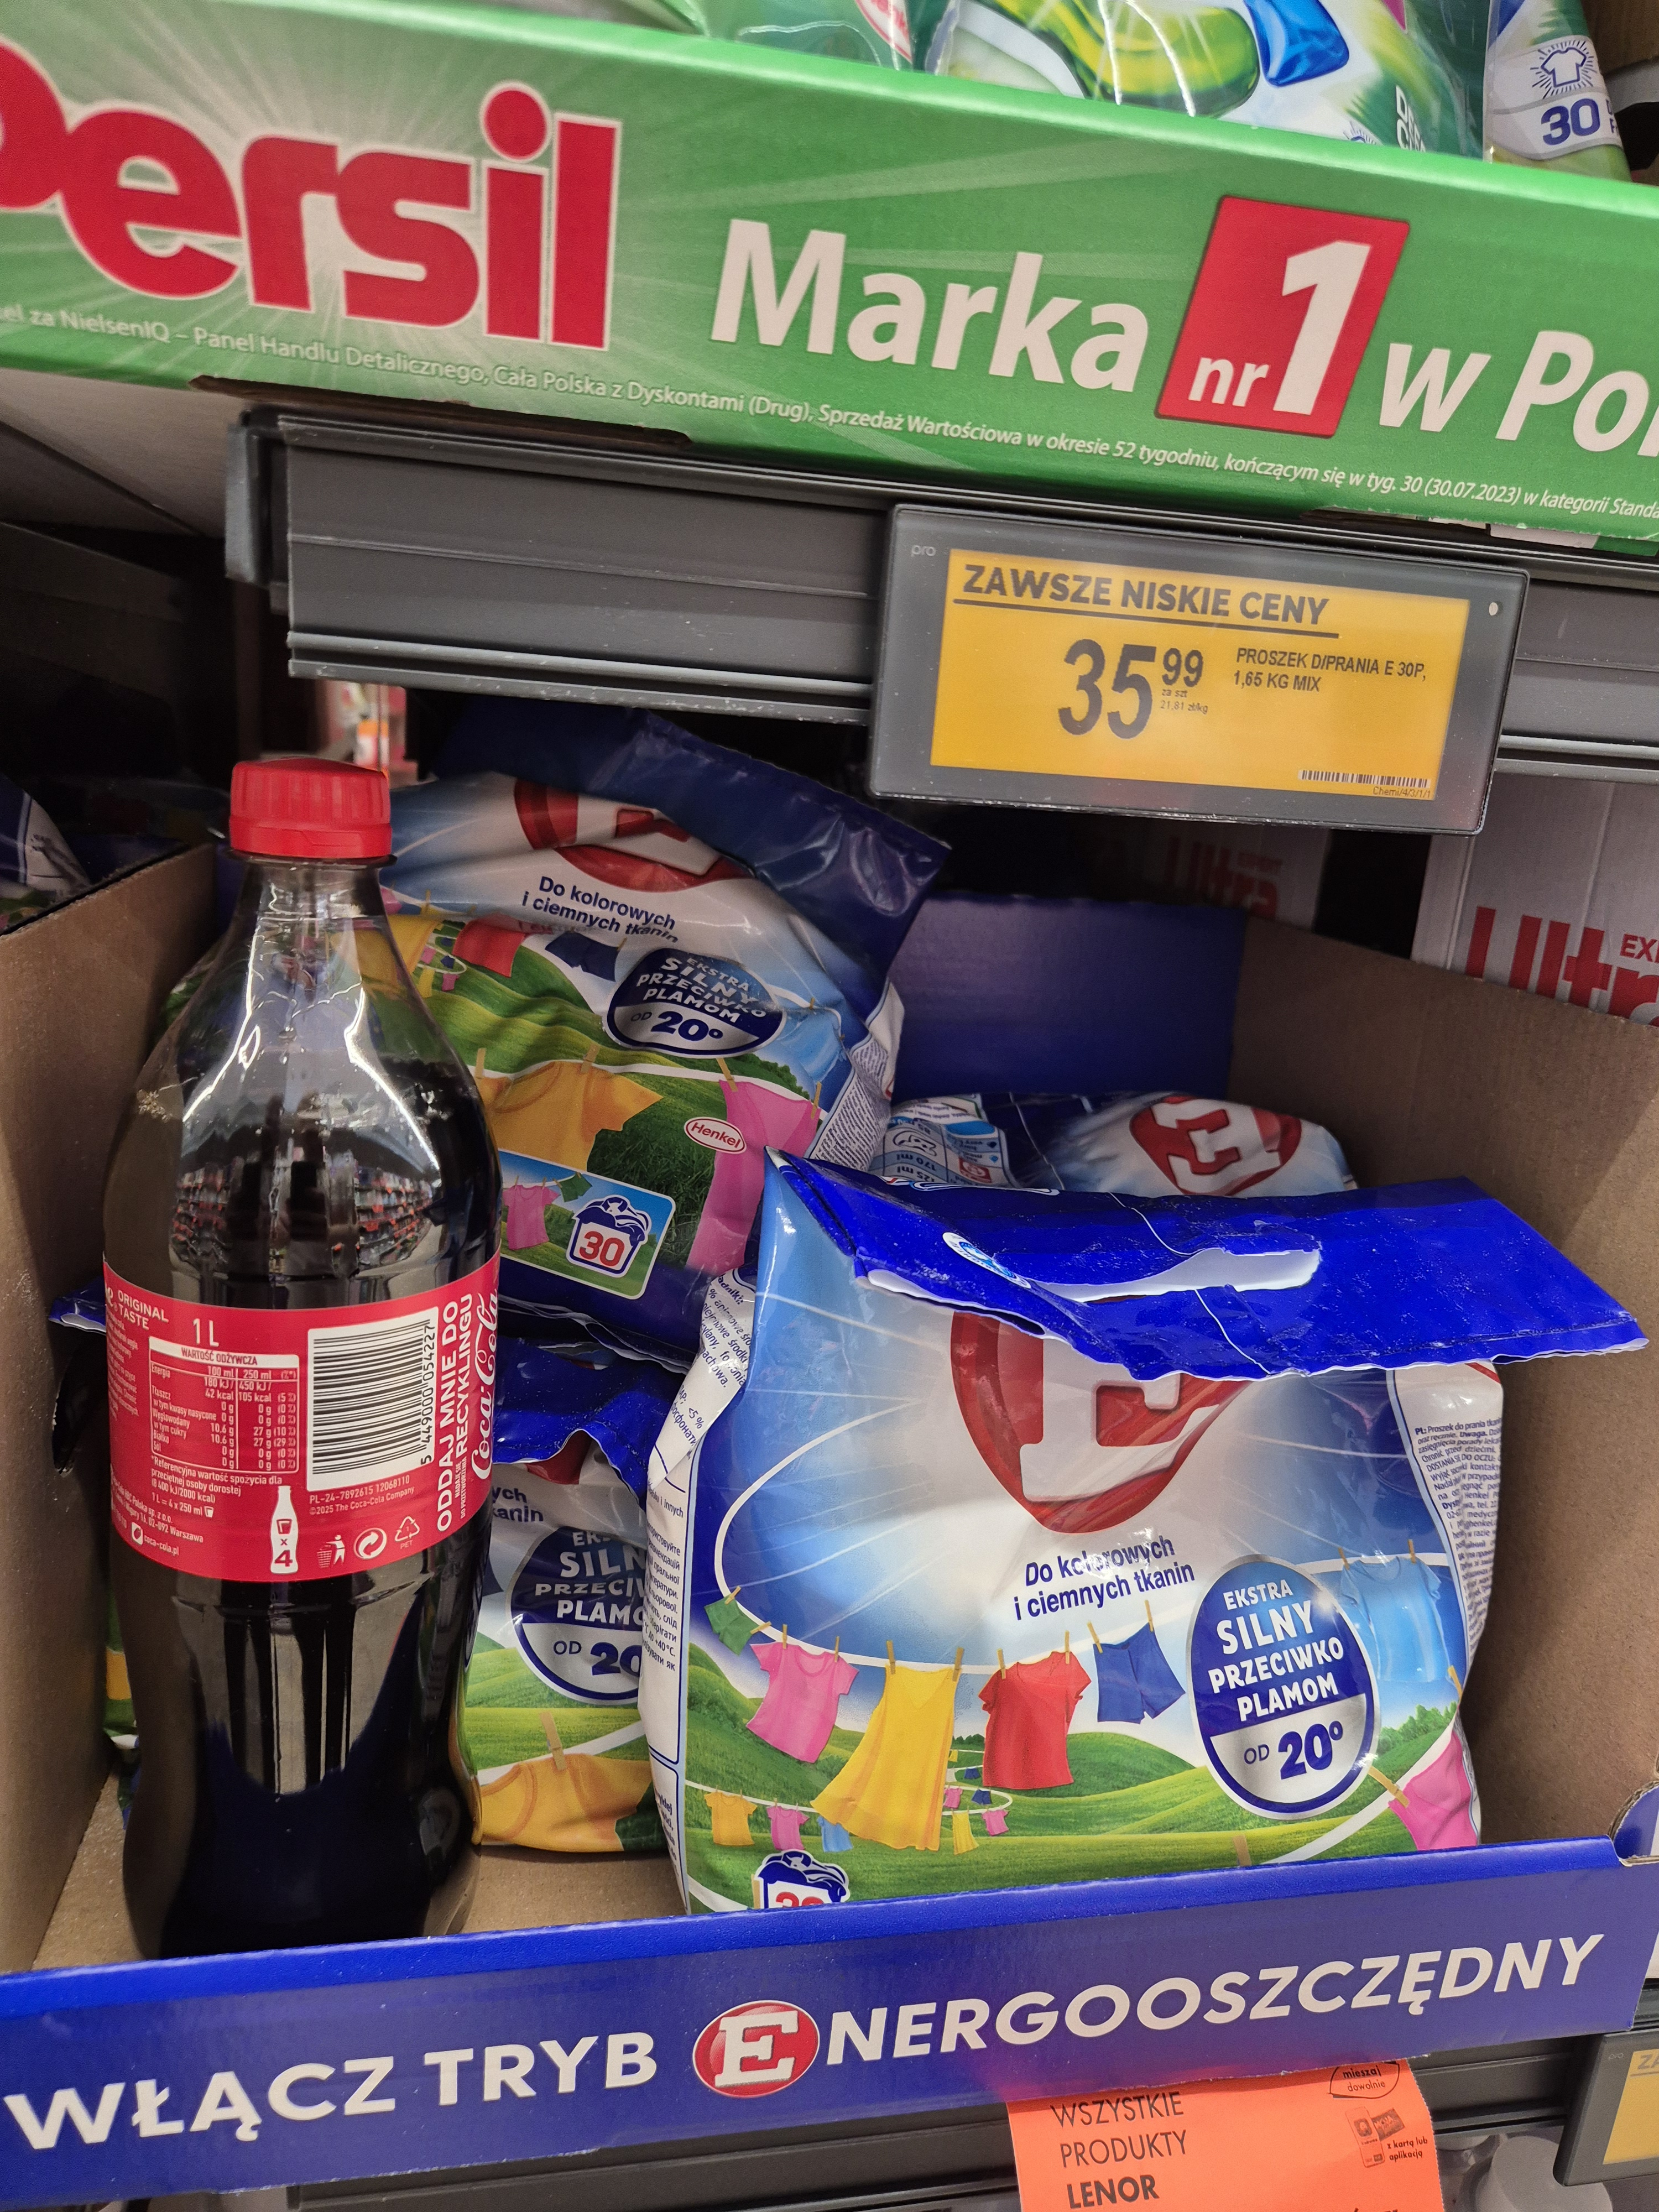Coca Cola: (117, 745, 516, 1954)
